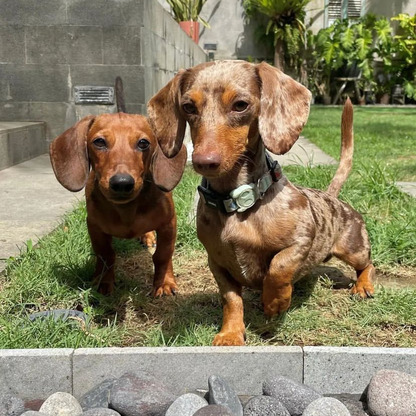dachshund: (160, 58, 381, 317), (55, 96, 185, 317)
